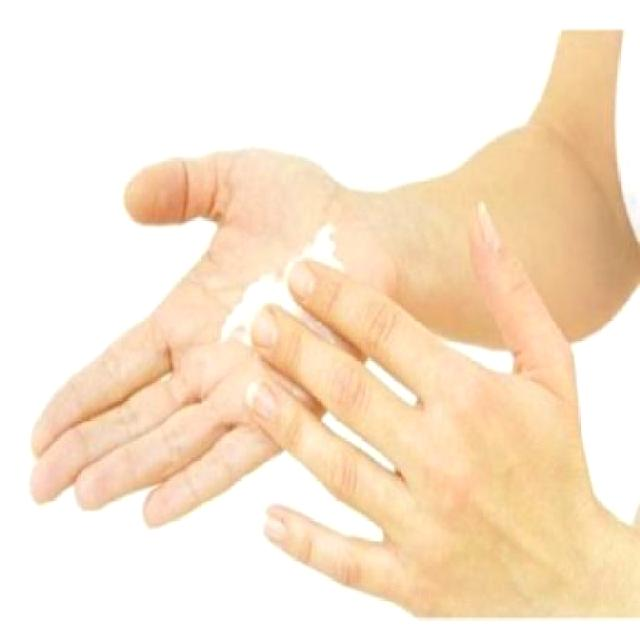hand_noglove: (250, 203, 602, 625), (22, 142, 395, 526)
